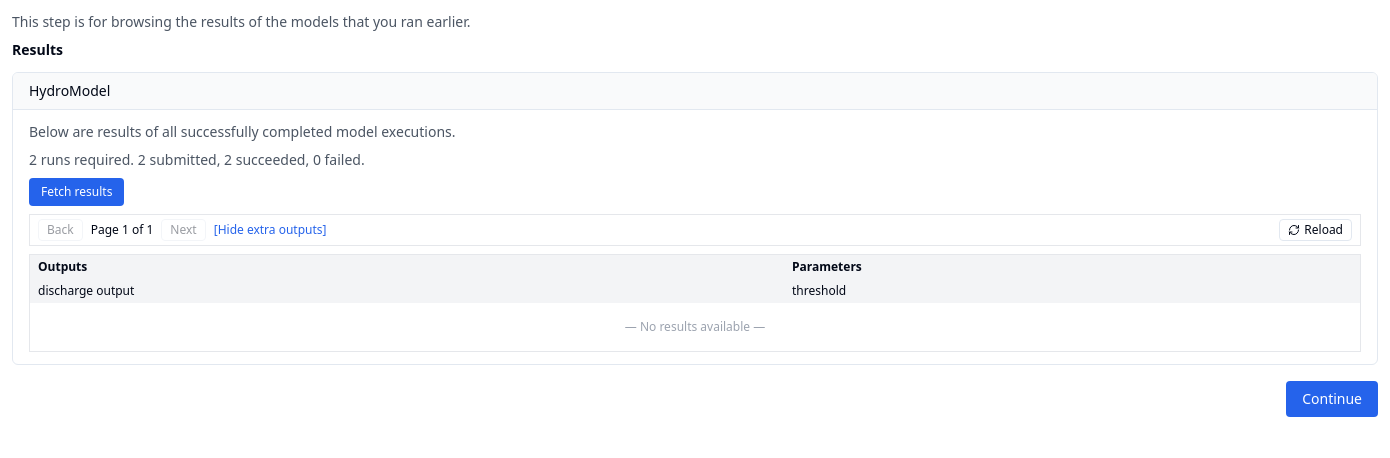
MintResults › shows any other failure as the server wrote it
Click the button with test id "fetch-results-model-1".
click(77, 192)  # box [29, 178, 124, 206]
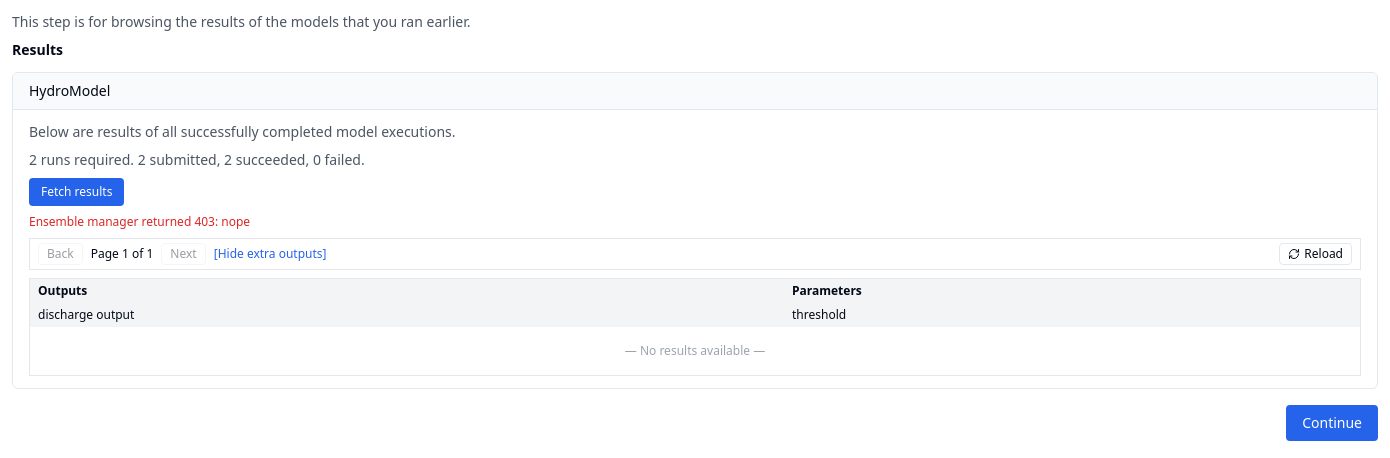
Check: the message with test id "publish-error-model-1" reads "Ensemble manager returned 403: nope", box [29, 213, 250, 230]
